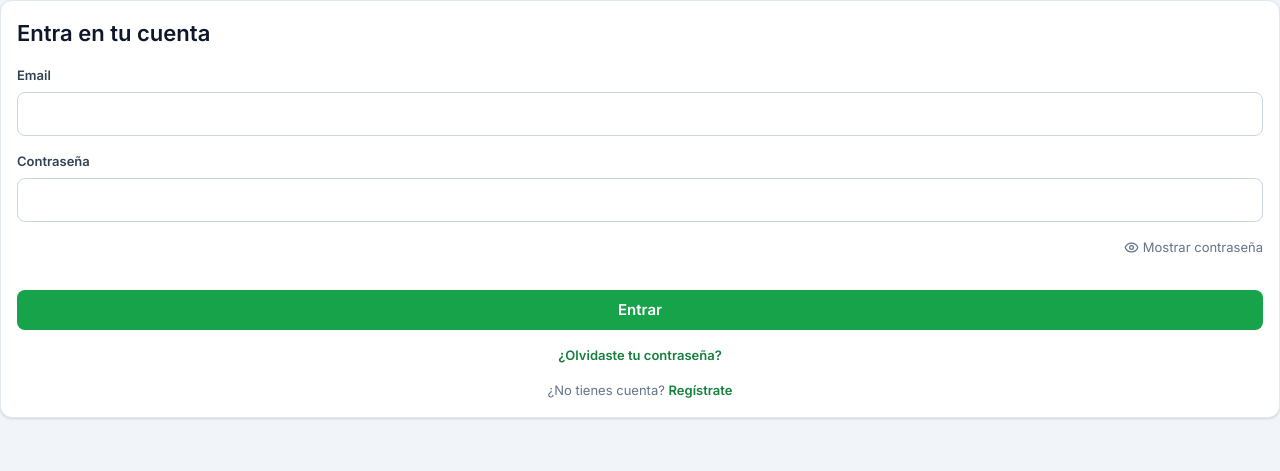
Test: LoginPage — el camino que ya funcionaba (JOS-184: no romperlo) › fallo de finalize() se muestra traducido
This screenshot has width=1280, height=471.
Type "ana@mail.com" into the field labelled "Email" at (640, 114), box [17, 92, 1263, 136]
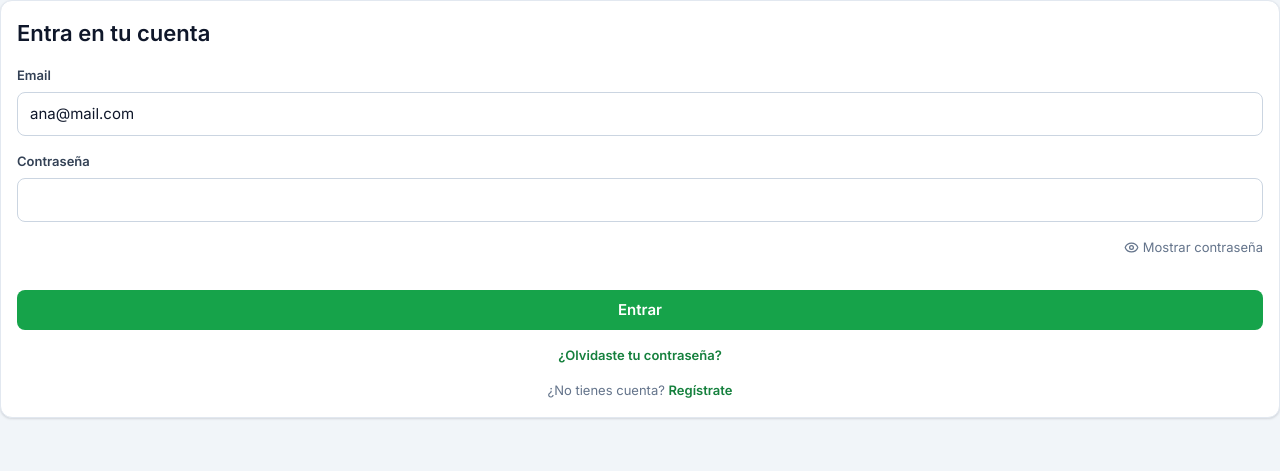
Type "Secreta123" into the password field labelled "Contraseña" at (640, 200), box [17, 178, 1263, 222]
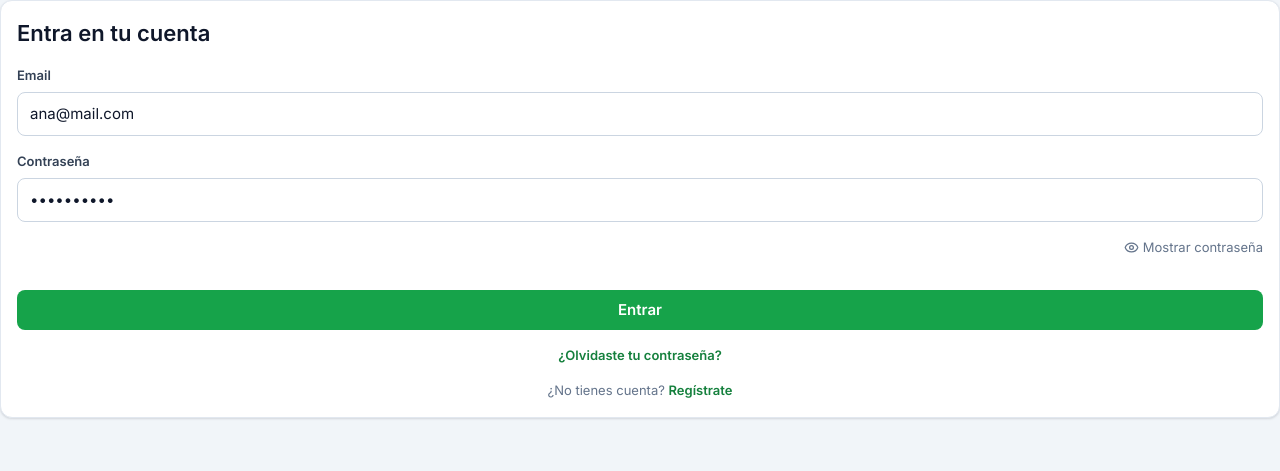
Submit the form
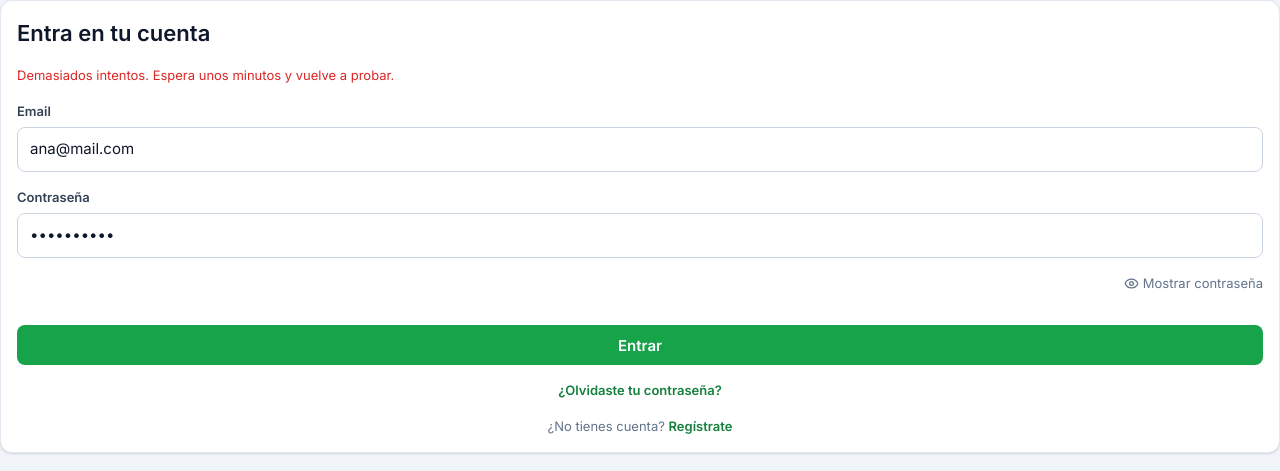
expect the message shows "Demasiados intentos.": met, box [17, 67, 394, 83]
